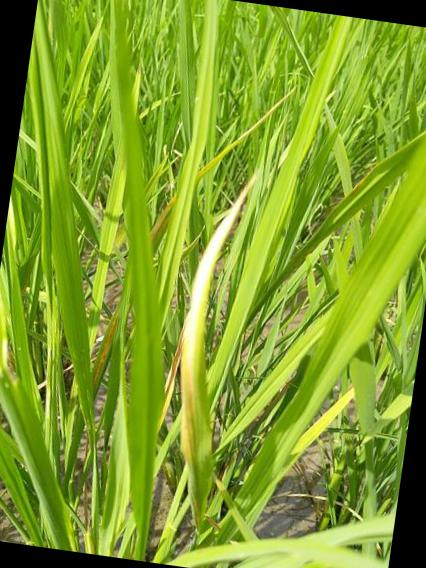Leaf Blight: (179, 179, 254, 529)
Leaf Streak: (92, 302, 120, 397), (149, 194, 177, 257), (196, 150, 228, 180)
